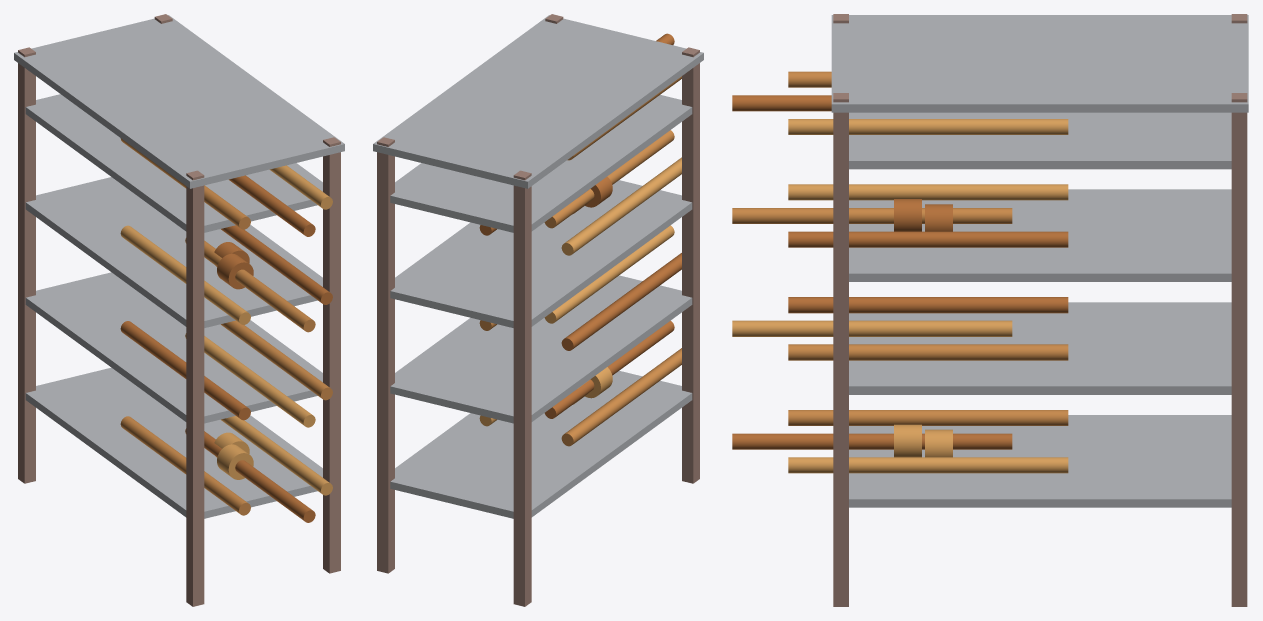
The model's file is bread_rack.glb.
3 renders of one model, left to right at view 1: azimuth 30°, elevation 25°; view 2: azimuth 150°, elevation 25°; view 3: azimuth 270°, elevation 25°, orthographic. The views are drawn at different scales.
Parts seen in each view (by area): view 1: top_shelf, tray_1, tray_0, tray_2, tray_3, post_-300_-640, post_300_-640, post_-300_640, baguette_1_1, baguette_0_0, baguette_2_0, baguette_1_0 (+10 smaller); view 2: top_shelf, tray_1, tray_2, tray_0, tray_3, post_-300_640, post_300_640, post_-300_-640, baguette_0_0, baguette_1_0, baguette_2_0, baguette_1_1 (+4 smaller); view 3: top_shelf, tray_1, tray_0, tray_2, tray_3, post_300_640, post_300_-640, baguette_1_2, baguette_0_2, baguette_1_0, baguette_1_1, baguette_2_2 (+11 smaller).
Boxes of the visible parts, x1=… form: top_shelf: x1=14, y1=15, x2=344, y2=188; tray_1: x1=25, y1=272, x2=322, y2=423; tray_0: x1=25, y1=367, x2=322, y2=518; tray_2: x1=25, y1=177, x2=322, y2=327; tray_3: x1=25, y1=94, x2=322, y2=232; post_-300_-640: x1=186, y1=170, x2=204, y2=606; post_300_-640: x1=323, y1=137, x2=340, y2=573; post_-300_640: x1=18, y1=47, x2=35, y2=483; baguette_1_1: x1=185, y1=333, x2=315, y2=427; baguette_0_0: x1=120, y1=416, x2=250, y2=515; baguette_2_0: x1=120, y1=225, x2=250, y2=324; baguette_1_0: x1=120, y1=321, x2=250, y2=420; top_shelf: x1=373, y1=15, x2=703, y2=188; tray_1: x1=390, y1=275, x2=692, y2=423; tray_2: x1=390, y1=180, x2=692, y2=327; tray_0: x1=390, y1=370, x2=692, y2=518; tray_3: x1=390, y1=95, x2=692, y2=232; post_-300_640: x1=513, y1=170, x2=531, y2=606; post_300_640: x1=377, y1=137, x2=394, y2=573; post_-300_-640: x1=682, y1=47, x2=699, y2=483; baguette_0_0: x1=561, y1=348, x2=681, y2=446; baguette_1_0: x1=561, y1=253, x2=681, y2=350; baguette_2_0: x1=561, y1=157, x2=681, y2=255; baguette_1_1: x1=544, y1=225, x2=674, y2=323; top_shelf: x1=831, y1=15, x2=1248, y2=112; tray_1: x1=849, y1=302, x2=1231, y2=394; tray_0: x1=849, y1=415, x2=1231, y2=507; tray_2: x1=849, y1=189, x2=1231, y2=281; tray_3: x1=849, y1=112, x2=1231, y2=169; post_300_640: x1=1231, y1=93, x2=1247, y2=606; post_300_-640: x1=833, y1=93, x2=848, y2=606; baguette_1_2: x1=788, y1=344, x2=1068, y2=360; baguette_0_2: x1=788, y1=457, x2=1068, y2=473; baguette_1_0: x1=788, y1=297, x2=1068, y2=313; baguette_1_1: x1=732, y1=320, x2=1012, y2=336; baguette_2_2: x1=788, y1=231, x2=1068, y2=247.
Size of the model in its own units: 0.68 by 1.8 by 1.66.
